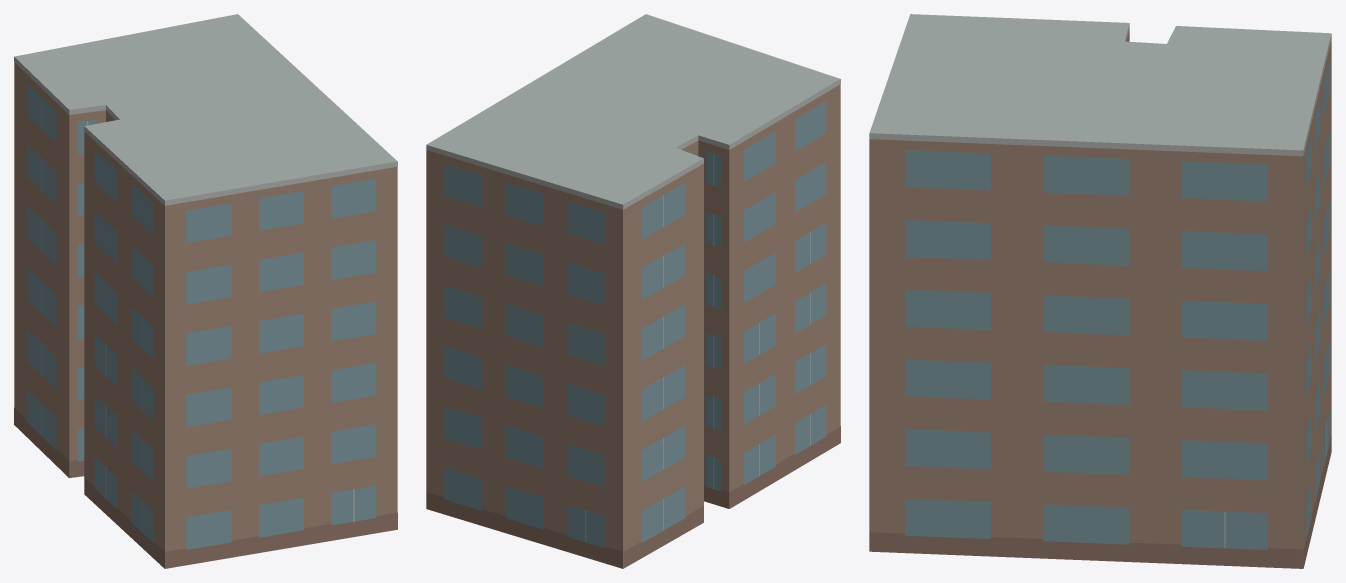
Rendered from survey-upis-32573791.glb.
The picture shows the model from 3 angles, left to right: view 1: azimuth 30°, elevation 25°; view 2: azimuth 150°, elevation 25°; view 3: azimuth 270°, elevation 25°; orthographic projection. The views are drawn at different scales.
Parts seen in each view (by area): view 1: survey-upis-32573791.tmp; view 2: survey-upis-32573791.tmp; view 3: survey-upis-32573791.tmp.
Part boxes in pixels (<box>): survey-upis-32573791.tmp: <box>14,14,397,568</box>; survey-upis-32573791.tmp: <box>426,14,840,568</box>; survey-upis-32573791.tmp: <box>869,14,1331,568</box>.
Size of the model in its own units: 12.11 by 17.3 by 17.33.
